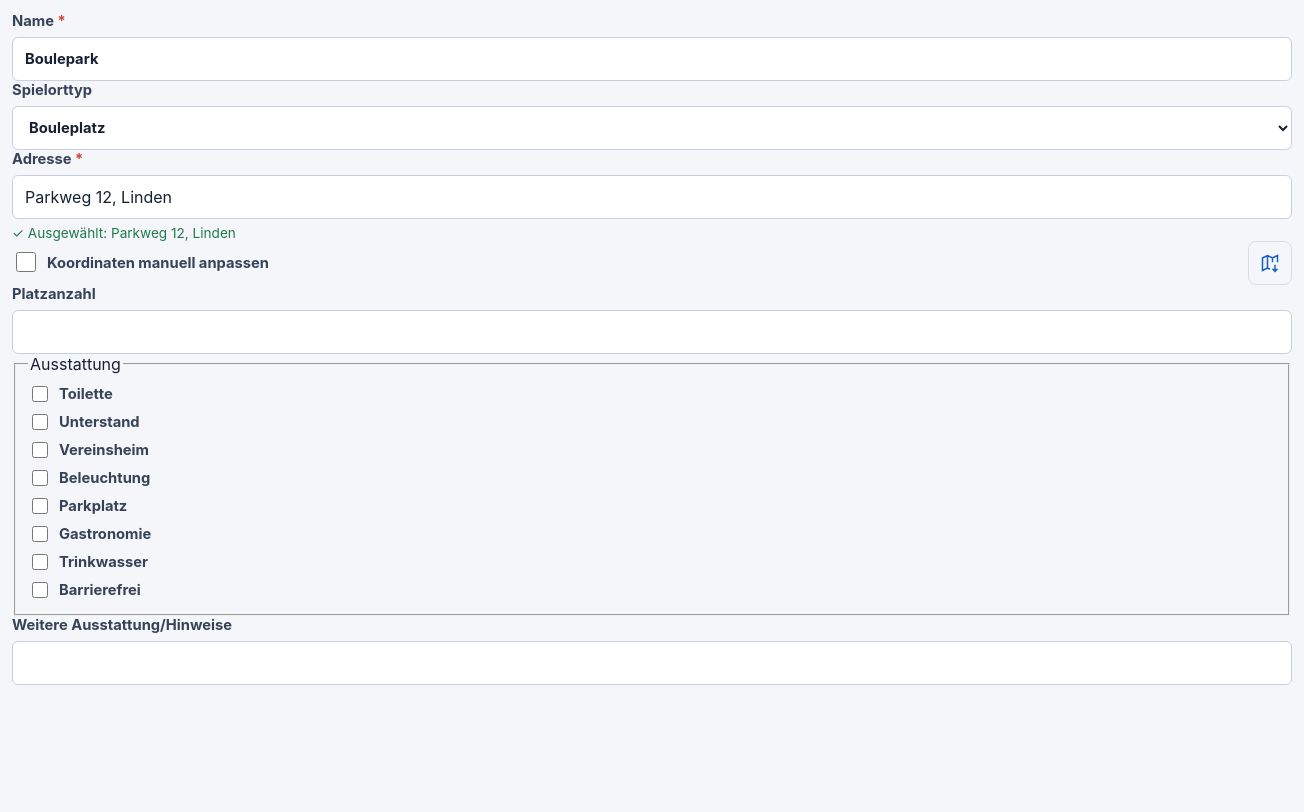
Test case: Bouleplatz-Koordinaten › blendet die gespeicherten Koordinaten wie beim Turnier ein und erlaubt Dezimalwerte
Expected: the number field labelled "Breitengrad" is not shown
Click the checkbox labelled "Koordinaten manuell anpassen".
click(26, 262)  # box [16,252,36,272]
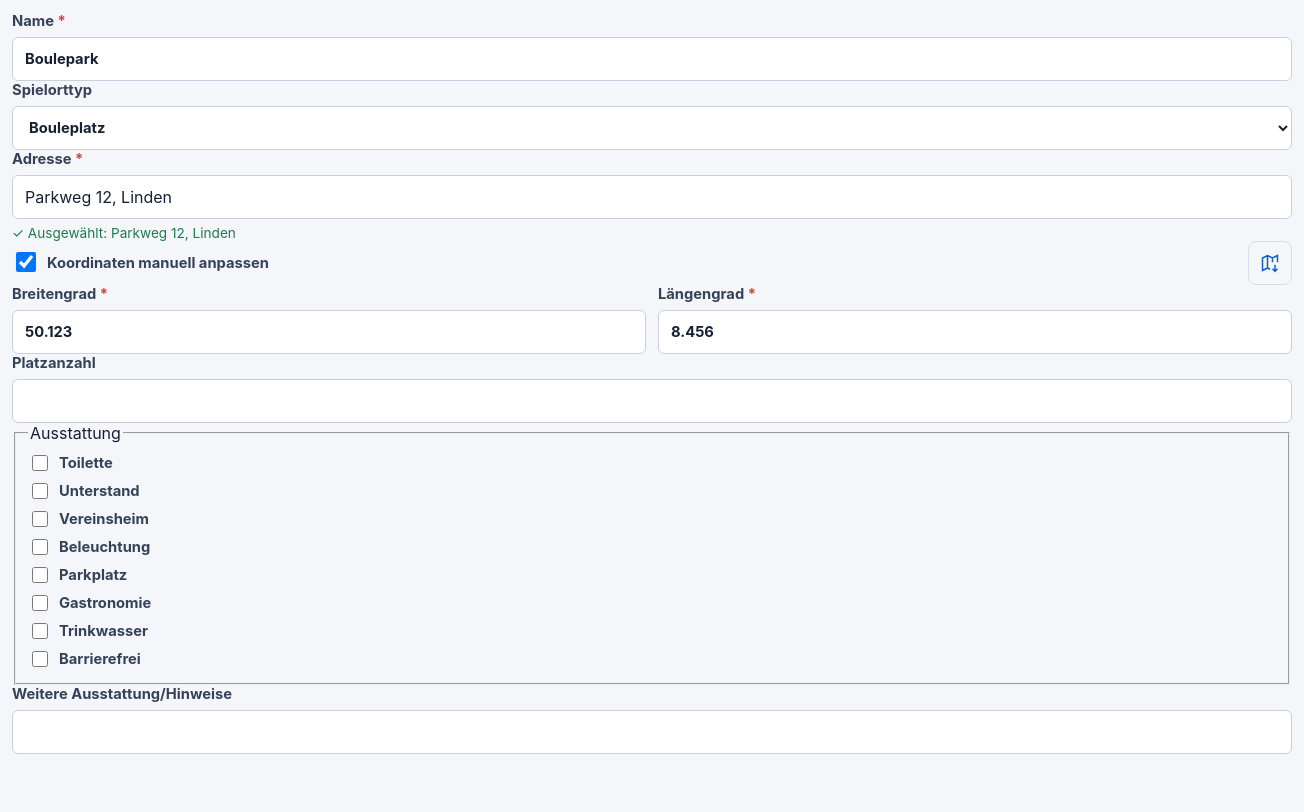
Expected: the number field labelled "Breitengrad *" holds "50.123"
Expected: the number field labelled "Längengrad *" holds "8.456", [658,310,1292,354]
Replace the text in the number field labelled "Breitengrad *" with "49.56789" at point(329, 332), box [12,310,646,354]
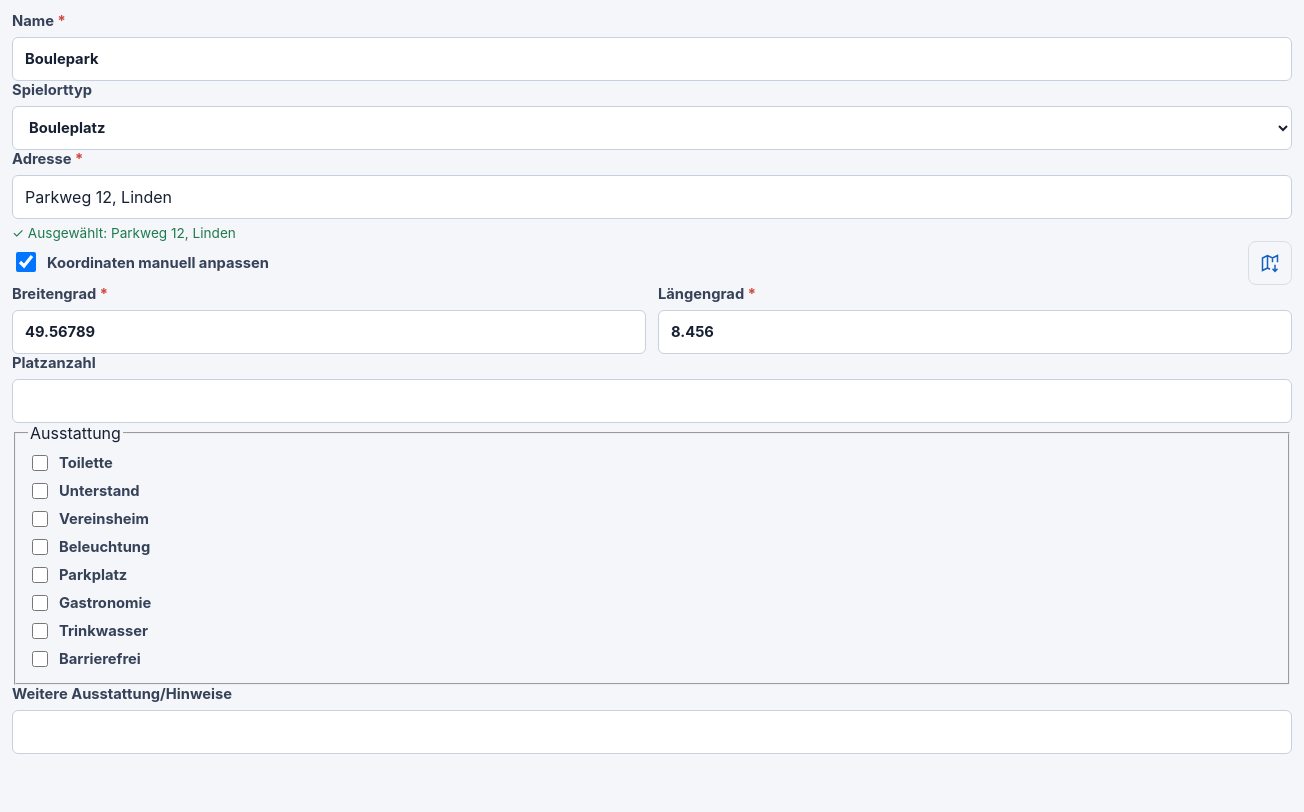
Replace the text in the number field labelled "Längengrad *" with "7.98765" at point(975, 332), box [658,310,1292,354]
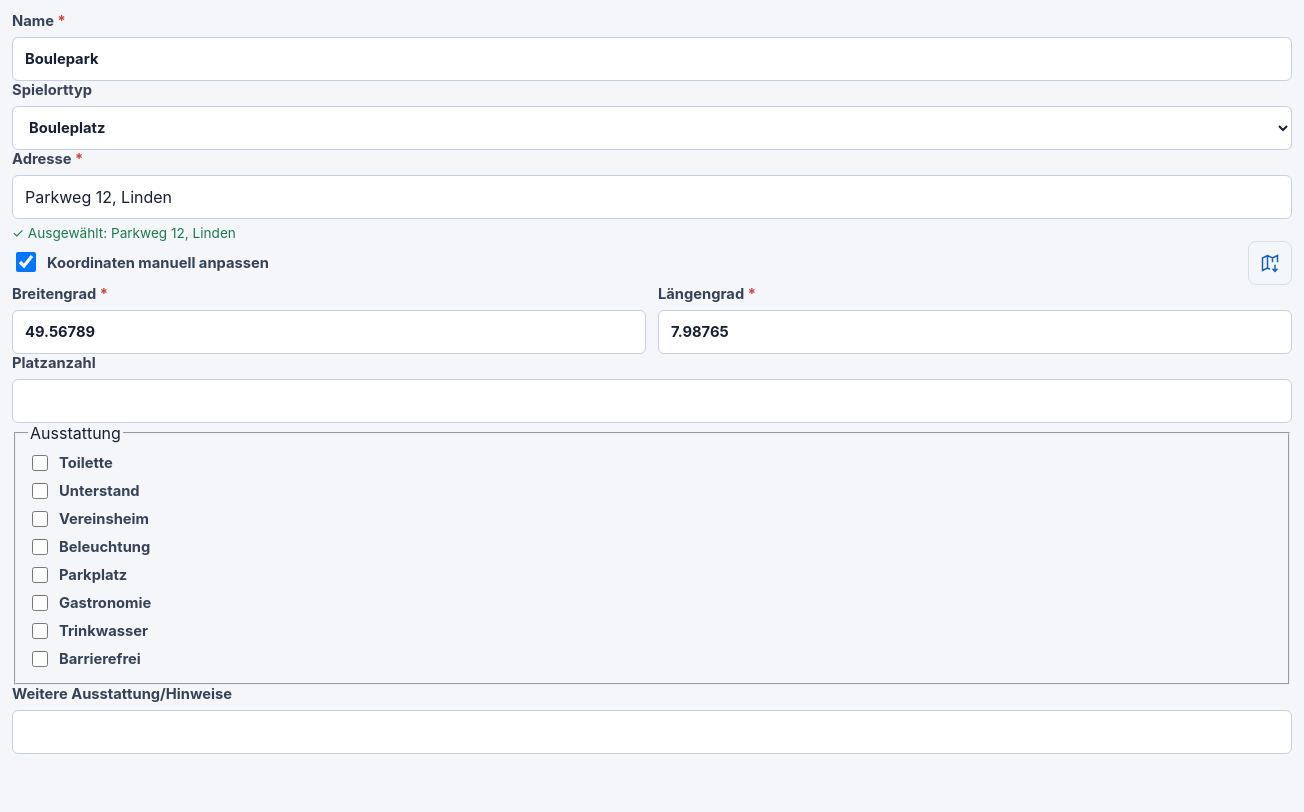
Click the checkbox labelled "Koordinaten manuell anpassen".
click(26, 262)  # box [16,252,36,272]
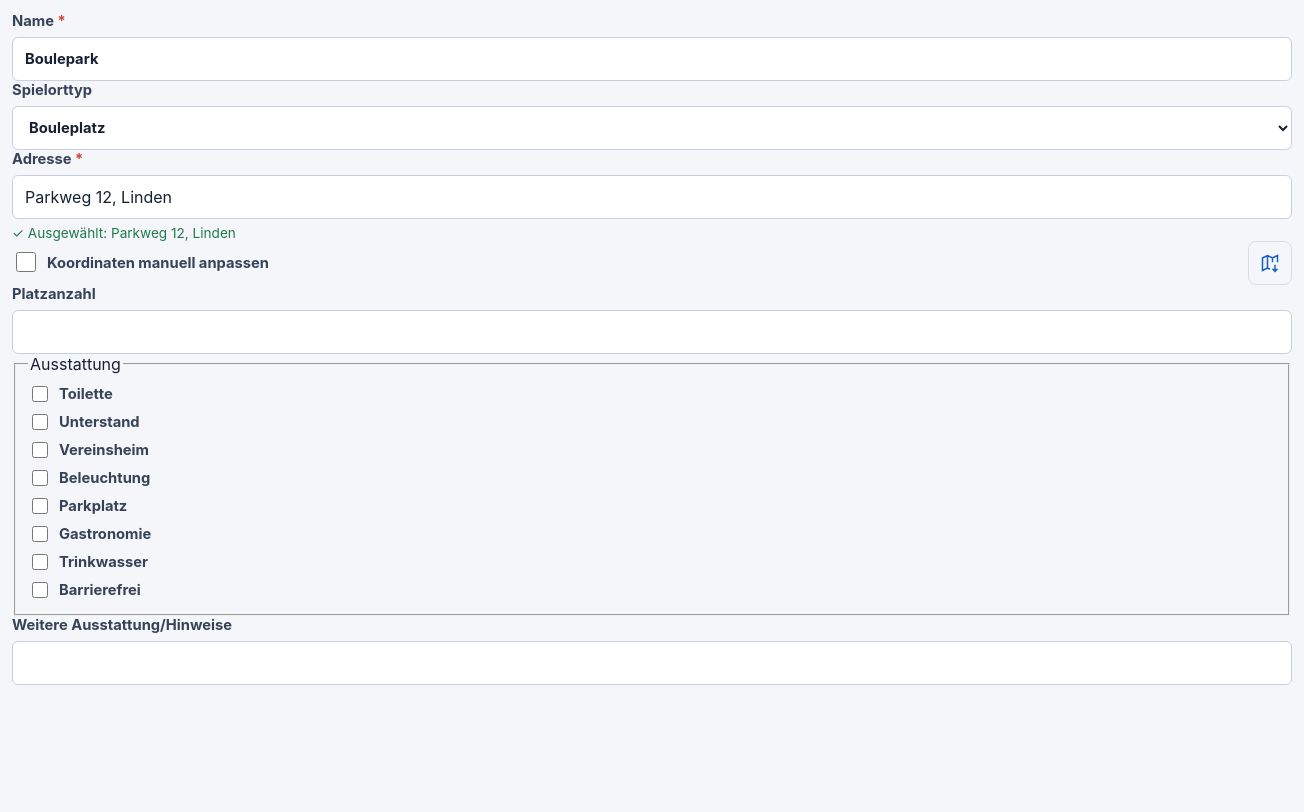
Expected: the label "Breitengrad" is gone
